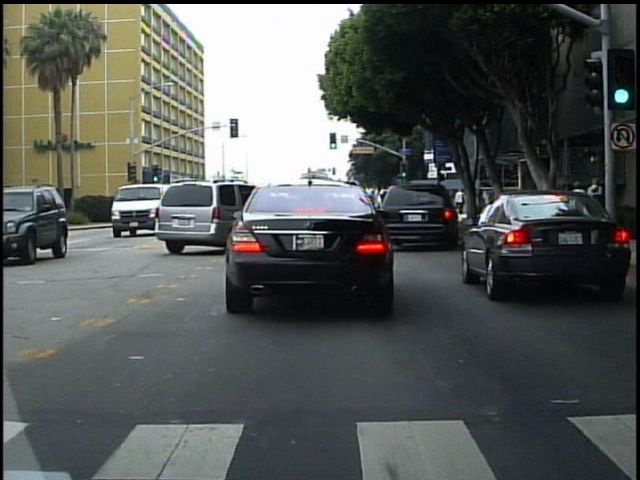person: (585, 173, 603, 232), (455, 185, 466, 216)
